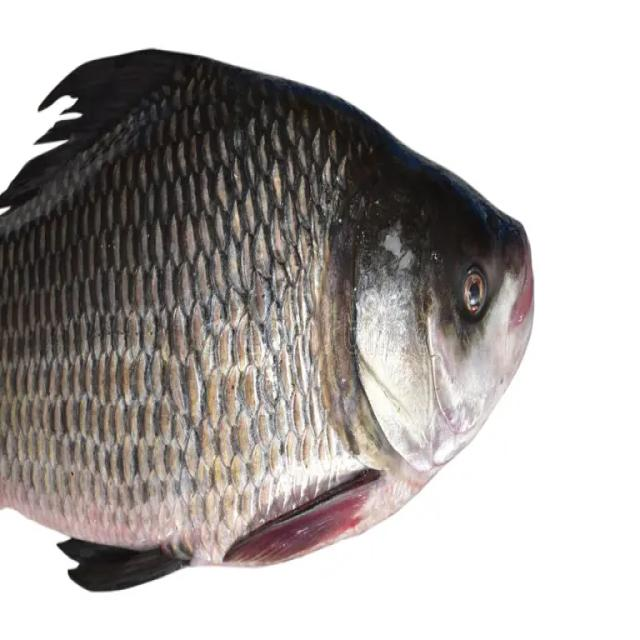Catla: (0, 47, 535, 594)
